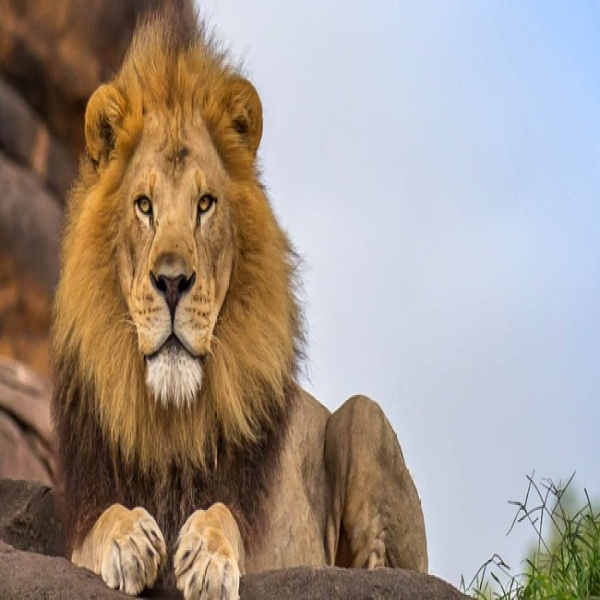Lion: (47, 8, 435, 598)
